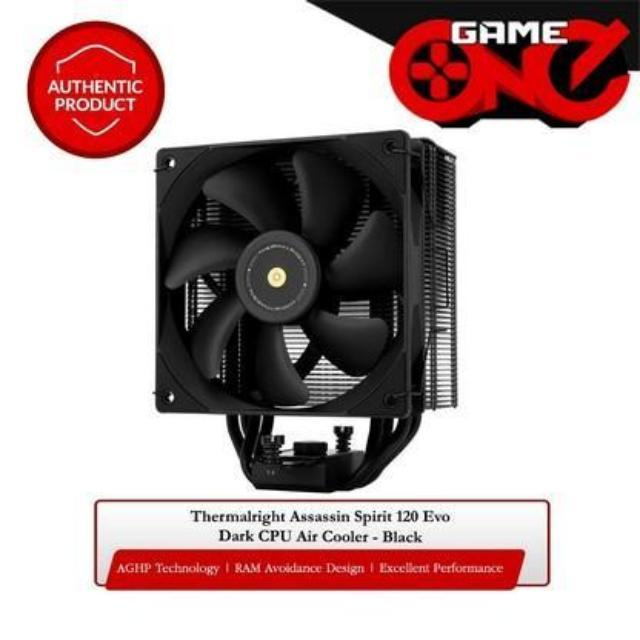CPU_Fan: (156, 130, 458, 492)
